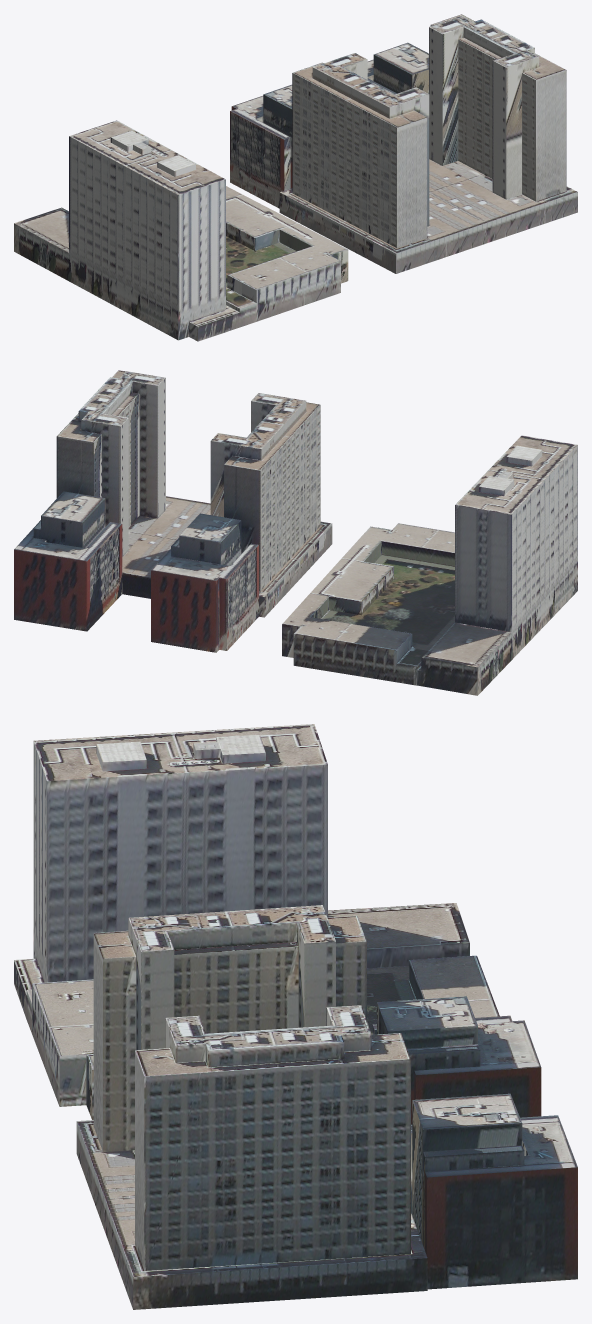
The model's file is IDL_Etape6.dae.
3 renders of one model, top to bottom at view 1: azimuth 30°, elevation 25°; view 2: azimuth 150°, elevation 25°; view 3: azimuth 270°, elevation 25°, orthographic. The views are drawn at different scales.
Parts seen in each view (by area): view 1: UUID_8066739d-9c4f-4d80-8d00-c8edf1b1d36a, UUID_9e88f770-c857-4fa2-bd37-1d7a69079863, UUID_a3e54fe0-a7f8-4d05-85d4-ea2368a748bb, UUID_6e81570d-f92d-4fa5-ad62-3deeb14924c8, UUID_07704fdf-9d7a-4cd3-b1a6-efbf4611d76a, UUID_8de1a1ad-4b42-48c2-a489-d0da024569c6, UUID_c557c037-150b-4cec-90cb-84765cce78a3, UUID_42b59da0-0030-4417-b1a6-640f4ea00305, UUID_bd55b11a-bd08-4442-8d21-fc89a93bcaec, UUID_acb1f71c-9423-461f-a43c-9c1e22b6449a, UUID_73ea11c3-06f2-4fd2-89f9-12127ec10832, UUID_4385a310-151f-4967-b157-b54a8ee5a2c7 (+45 smaller); view 2: UUID_8066739d-9c4f-4d80-8d00-c8edf1b1d36a, UUID_7c45233d-12be-44b3-9e4b-926ce5ab773a, UUID_c7ac0dd2-ffd9-43c3-a692-2fb258c555ce, UUID_fd1bf822-c17c-43d6-94b8-5636dc21d950, UUID_9e88f770-c857-4fa2-bd37-1d7a69079863, UUID_6e1b6214-fad6-4e13-8c30-e61fa4643130, UUID_f5c3e950-7339-4429-9001-ed602cd7e027, UUID_1d259b44-b198-403e-b14c-00e4c06a9d6d, UUID_42236721-1c82-4e09-898e-3060d9c2f4b9, UUID_a9d176ef-a77b-4974-8592-06f663613c25, UUID_956ec2fa-04c1-46bd-915e-70c7bcaebef5, UUID_c557c037-150b-4cec-90cb-84765cce78a3 (+56 smaller); view 3: UUID_820707cd-a825-4443-80bd-059ea18a87ae, UUID_c78015de-58b7-4669-aceb-74a59cdffff9, UUID_e5e062c5-ff01-4014-a68d-06a19c0f3500, UUID_cbdd8d72-c6c3-4575-8437-6559db94b76a, UUID_b5b10e92-ad68-41c9-a49a-663345f1c443, UUID_1fbcef8f-80fe-4b35-9ce3-8d8124ccfafd, UUID_7885f4cf-3a4d-45c7-aa92-3f72462692ff, UUID_18302e48-4a62-40a5-ba32-4a5a9e0857b4, UUID_85ee5ce4-e767-4246-8481-55143847077a, UUID_2bcc40dd-350a-4fac-8c36-9314894da32c, UUID_c1b74d9d-33e1-4fc0-8eff-5c2e2a6c88c5, UUID_2b1934de-0ea7-4a78-8abc-66afbe24afa6 (+46 smaller).
Boxes of the visible parts, x1,y1,x2,y2 form: UUID_8066739d-9c4f-4d80-8d00-c8edf1b1d36a: (69, 136, 178, 339); UUID_9e88f770-c857-4fa2-bd37-1d7a69079863: (292, 73, 396, 214); UUID_a3e54fe0-a7f8-4d05-85d4-ea2368a748bb: (189, 179, 225, 321); UUID_6e81570d-f92d-4fa5-ad62-3deeb14924c8: (396, 192, 577, 273); UUID_07704fdf-9d7a-4cd3-b1a6-efbf4611d76a: (536, 70, 566, 201); UUID_8de1a1ad-4b42-48c2-a489-d0da024569c6: (397, 117, 427, 247); UUID_c557c037-150b-4cec-90cb-84765cce78a3: (458, 39, 495, 178); UUID_42b59da0-0030-4417-b1a6-640f4ea00305: (279, 192, 395, 273); UUID_bd55b11a-bd08-4442-8d21-fc89a93bcaec: (256, 261, 340, 321); UUID_acb1f71c-9423-461f-a43c-9c1e22b6449a: (506, 68, 521, 199); UUID_73ea11c3-06f2-4fd2-89f9-12127ec10832: (230, 111, 283, 196); UUID_4385a310-151f-4967-b157-b54a8ee5a2c7: (492, 61, 506, 199); UUID_8066739d-9c4f-4d80-8d00-c8edf1b1d36a: (511, 445, 577, 631); UUID_7c45233d-12be-44b3-9e4b-926ce5ab773a: (455, 505, 511, 631); UUID_c7ac0dd2-ffd9-43c3-a692-2fb258c555ce: (14, 549, 87, 631); UUID_fd1bf822-c17c-43d6-94b8-5636dc21d950: (151, 570, 216, 652); UUID_9e88f770-c857-4fa2-bd37-1d7a69079863: (260, 405, 320, 565); UUID_6e1b6214-fad6-4e13-8c30-e61fa4643130: (362, 581, 454, 645); UUID_f5c3e950-7339-4429-9001-ed602cd7e027: (139, 386, 157, 518); UUID_1d259b44-b198-403e-b14c-00e4c06a9d6d: (87, 524, 122, 630); UUID_42236721-1c82-4e09-898e-3060d9c2f4b9: (224, 465, 260, 553); UUID_a9d176ef-a77b-4974-8592-06f663613c25: (56, 436, 93, 496); UUID_956ec2fa-04c1-46bd-915e-70c7bcaebef5: (293, 634, 396, 665); UUID_c557c037-150b-4cec-90cb-84765cce78a3: (119, 394, 139, 526); UUID_820707cd-a825-4443-80bd-059ea18a87ae: (47, 764, 327, 982); UUID_c78015de-58b7-4669-aceb-74a59cdffff9: (144, 1059, 410, 1263); UUID_e5e062c5-ff01-4014-a68d-06a19c0f3500: (427, 1167, 577, 1279); UUID_cbdd8d72-c6c3-4575-8437-6559db94b76a: (174, 947, 298, 1033); UUID_b5b10e92-ad68-41c9-a49a-663345f1c443: (144, 1077, 255, 1269); UUID_1fbcef8f-80fe-4b35-9ce3-8d8124ccfafd: (256, 1060, 410, 1263); UUID_7885f4cf-3a4d-45c7-aa92-3f72462692ff: (338, 1060, 410, 1258); UUID_18302e48-4a62-40a5-ba32-4a5a9e0857b4: (103, 957, 136, 1151); UUID_85ee5ce4-e767-4246-8481-55143847077a: (134, 1258, 425, 1300); UUID_2bcc40dd-350a-4fac-8c36-9314894da32c: (141, 949, 174, 1049); UUID_c1b74d9d-33e1-4fc0-8eff-5c2e2a6c88c5: (416, 1067, 540, 1111); UUID_2b1934de-0ea7-4a78-8abc-66afbe24afa6: (366, 903, 469, 949).
Bounding box in the file's own units: 129 × 84.69 × 40.43.
4 materials, 4 textured.
